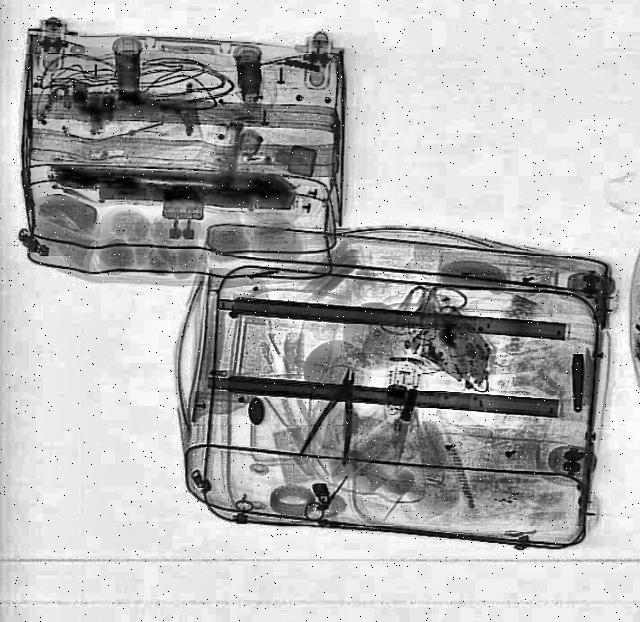Pliers: (296, 364, 378, 468)
